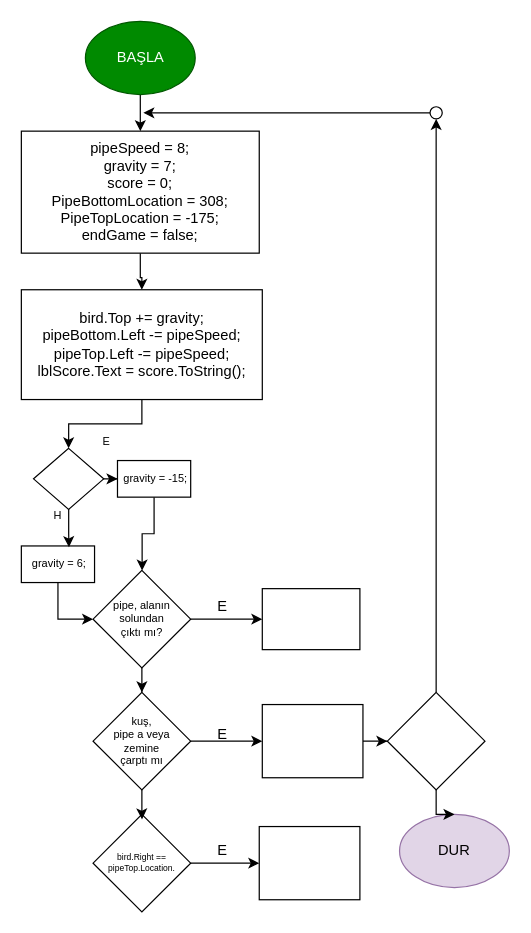
Some shapes in this 531 by 933 pixel diagram are drawn without their labels. Each missing label, with the centre of its shape:
"GameOver()" goes at [312,740].
"pipe yeniden konumlandır" goes at [310,618].
"R ye basılırsa" goes at [435,740].
"score++" goes at [309,862].
"space e basılı mı" goes at [68,478].
